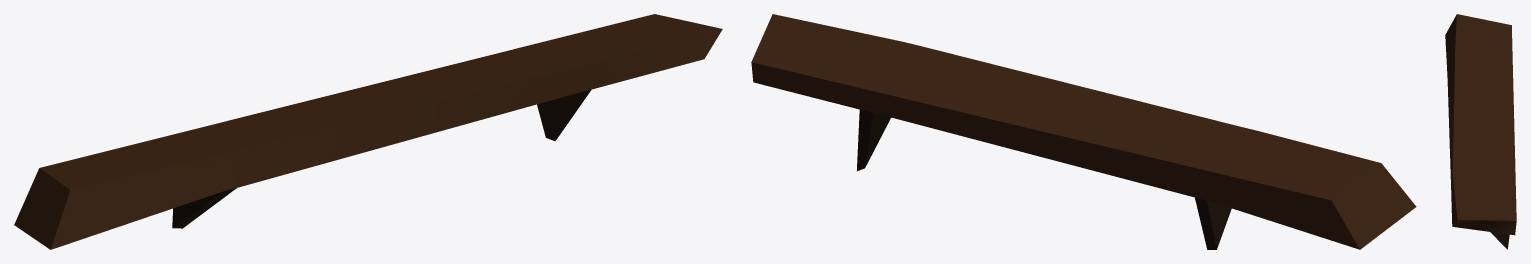
The model's file is c_furniture_wallshelf_wood_aa.fbx.
3 views of the same model, side by side, from view 1: azimuth 30°, elevation 25°; view 2: azimuth 150°, elevation 25°; view 3: azimuth 270°, elevation 25° (orthographic). The views are drawn at different scales.
Parts seen in each view (by area): view 1: c_furniture_wallshelf_wood_aa; view 2: c_furniture_wallshelf_wood_aa; view 3: c_furniture_wallshelf_wood_aa.
Part boxes in pixels (x1,y1,x2,y2): c_furniture_wallshelf_wood_aa: (14,14,722,249); c_furniture_wallshelf_wood_aa: (751,14,1416,249); c_furniture_wallshelf_wood_aa: (1445,14,1516,249).
Size of the model in its own units: 2.66 by 0.4101 by 0.3719.
